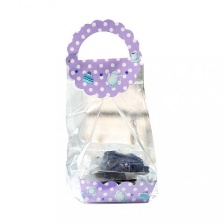snack: (53, 12, 164, 209)
